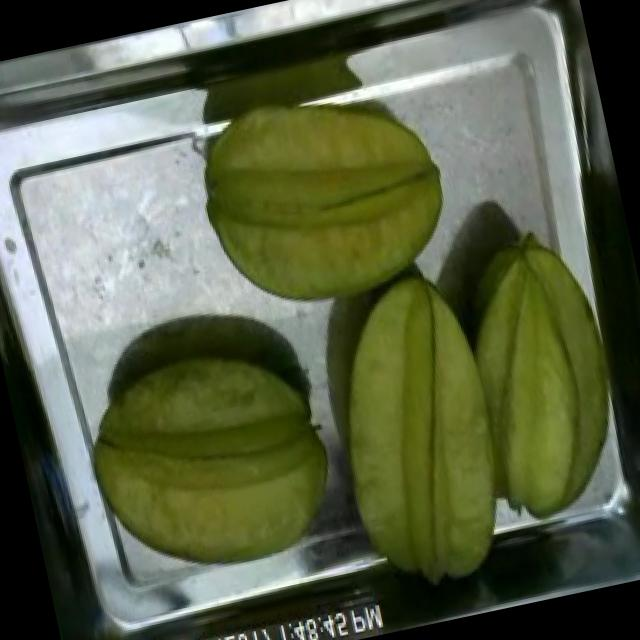fruit: (293, 226, 617, 608), (174, 62, 476, 338), (61, 320, 354, 600)
